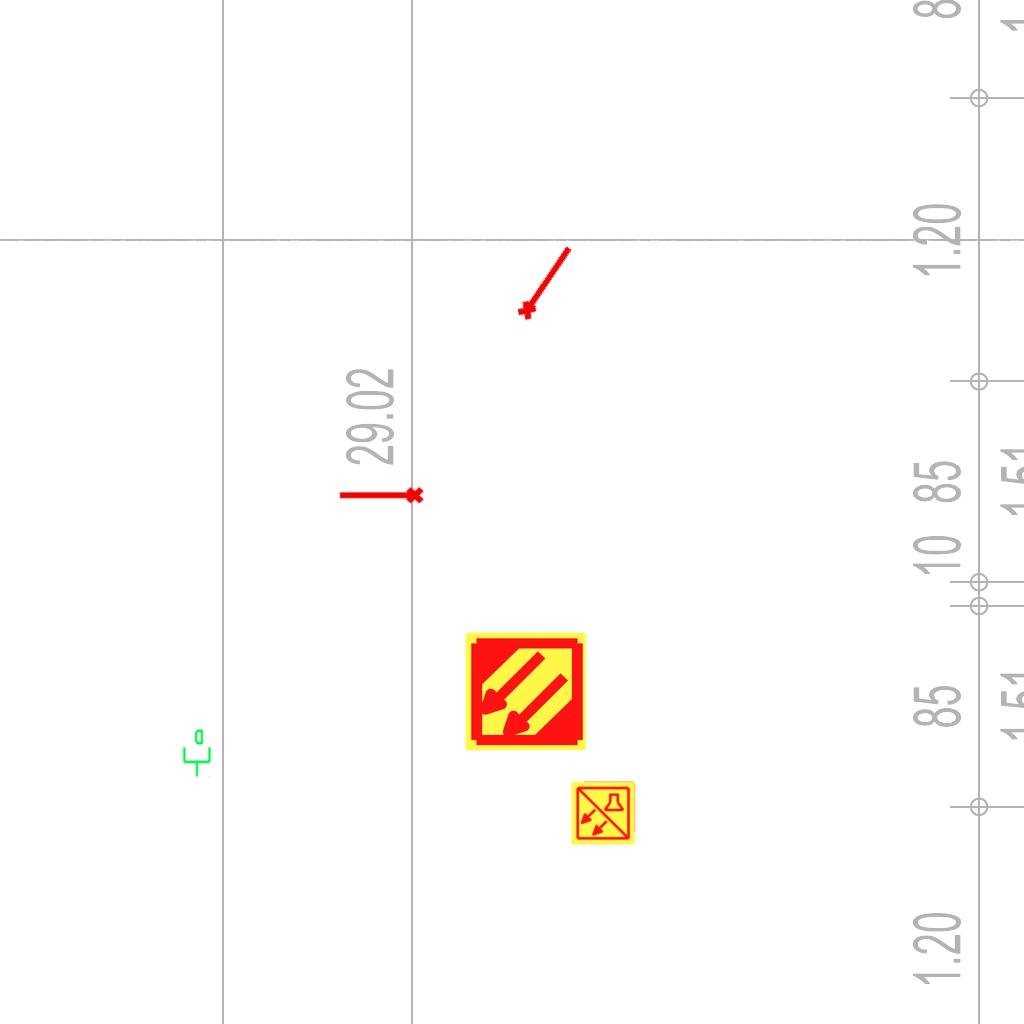ASR_Ansaugoeffnung: (510, 238, 580, 325), (337, 485, 425, 508)
ASR_Ansaugrauchmelder: (463, 629, 588, 754)
Datenanschluss_einfach: (179, 728, 213, 778)
OKW_Multisensormelder_(Kombination_optischer_Rauch-Kahlenmonoxid_Waerme-Melder): (570, 780, 636, 846)
